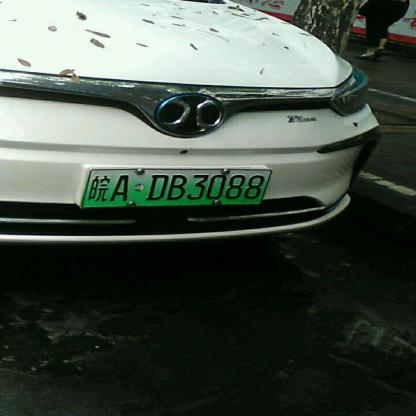lp: (82, 170, 268, 206)
